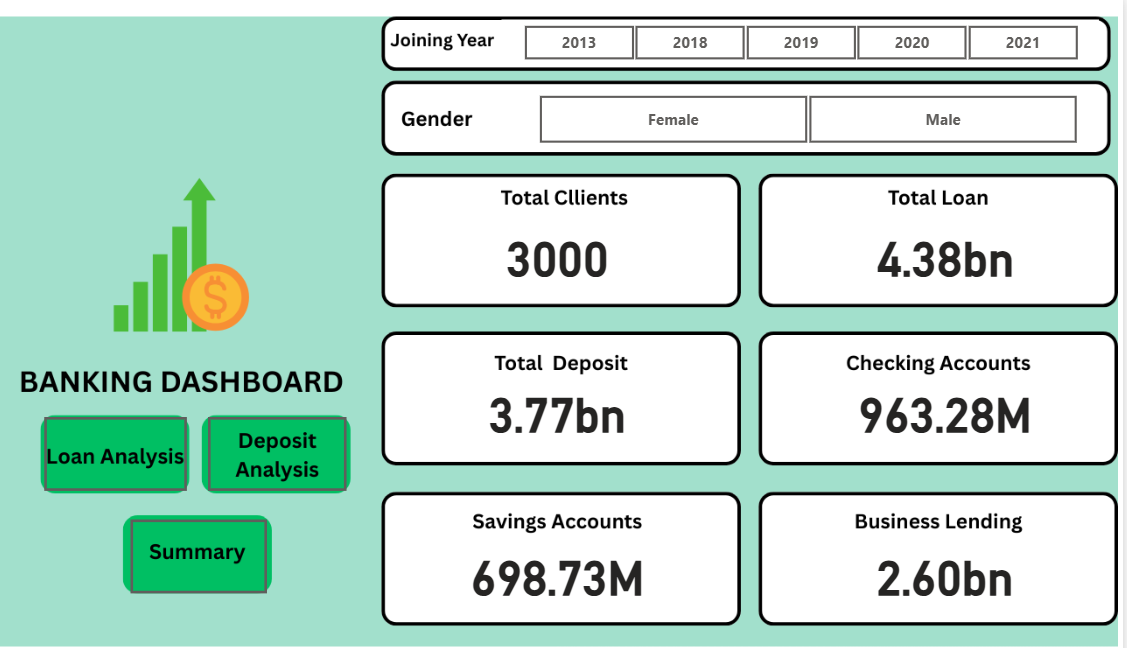

The dashboard page shown, as its layout file describes it:
{"tool":"powerbi","page":{"name":"Home","canvas":[1291,771],"ordinal":0},"visuals":[{"type":"card","fields":{"Values":["CountNonNull(banking_case customer.Name)"]},"box":[538.4,253.3,213.1,80.3],"z":0},{"type":"slicer","fields":{"Values":["banking_case customer.GenderId"]},"box":[599.3,105.2,664.3,67.8],"z":1000},{"type":"card","fields":{"Values":["banking_case customer.Total loan"]},"box":[981.3,253.3,214.5,80.3],"z":2000},{"type":"card","fields":{"Values":["banking_case customer.Total Deposit"]},"box":[538.4,431.8,213.1,80.3],"z":3000},{"type":"slicer","fields":{"Values":["banking_case customer.Year of Joining"]},"box":[581.3,26.3,682.3,52.6],"z":4000},{"type":"card","fields":{"Values":["Sum(banking_case customer.Saving Accounts)"]},"box":[538.4,617.3,213.1,80.3],"z":5000},{"type":"card","fields":{"Values":["Sum(banking_case customer.Checking Accounts)"]},"box":[981.3,431.8,213.1,80.3],"z":6000},{"type":"card","fields":{"Values":["Sum(banking_case customer.Business Lending)"]},"box":[981.3,617.3,213.1,80.3],"z":7000},{"type":"actionButton","box":[58.6,479.7,163,84.4],"z":8000},{"type":"actionButton","box":[246.3,479.7,158.3,84.4],"z":9000},{"type":"actionButton","box":[157.2,596.9,156,84.4],"z":10000}]}

Visuals, with their boxes on the page's 1291x771 design canvas (x1, y1, x2, y2). These are canvas units, not pixel positions in the 1127x648 screenshot, which may show the page scaled, cropped or inside an application window:
card - CountNonNull(banking_case customer.Name): [left=538, top=253, right=752, bottom=334]
slicer - banking_case customer.GenderId: [left=599, top=105, right=1264, bottom=173]
card - banking_case customer.Total loan: [left=981, top=253, right=1196, bottom=334]
card - banking_case customer.Total Deposit: [left=538, top=432, right=752, bottom=512]
slicer - banking_case customer.Year of Joining: [left=581, top=26, right=1264, bottom=79]
card - Sum(banking_case customer.Saving Accounts): [left=538, top=617, right=752, bottom=698]
card - Sum(banking_case customer.Checking Accounts): [left=981, top=432, right=1194, bottom=512]
card - Sum(banking_case customer.Business Lending): [left=981, top=617, right=1194, bottom=698]
actionButton: [left=59, top=480, right=222, bottom=564]
actionButton: [left=246, top=480, right=405, bottom=564]
actionButton: [left=157, top=597, right=313, bottom=681]
